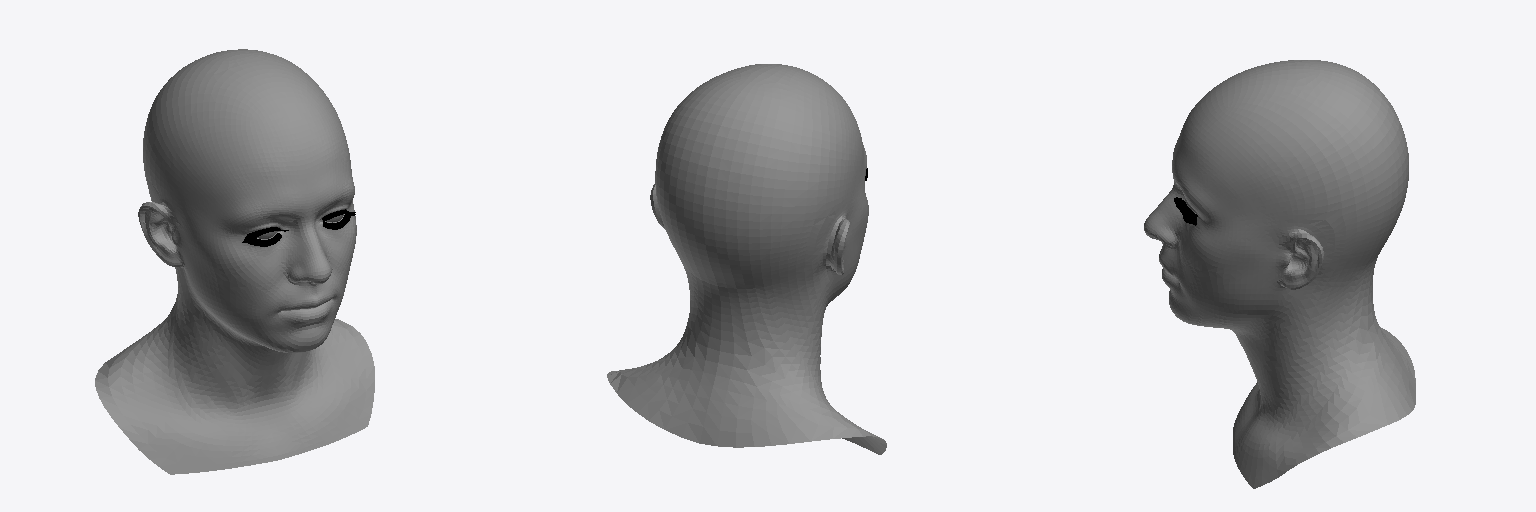
The model's file is identity089.obj.
3 renders of one model, left to right at view 1: azimuth 30°, elevation 25°; view 2: azimuth 150°, elevation 25°; view 3: azimuth 270°, elevation 25°, orthographic.
Bounding box in the file's own units: 24.83 × 33.81 × 22.32.